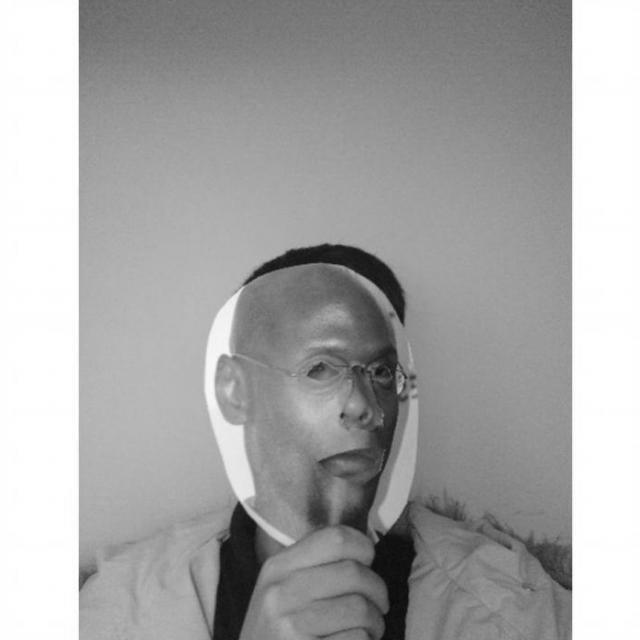fake: (202, 262, 426, 552)
